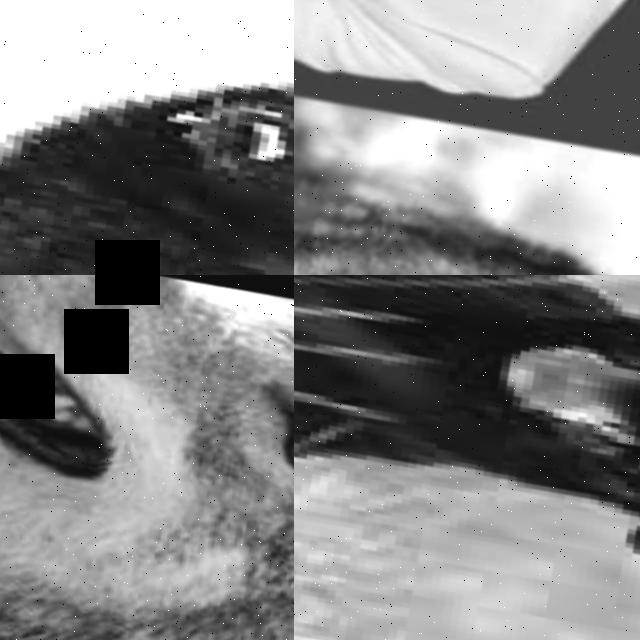dog: (294, 275, 640, 611), (294, 546, 640, 640)
wolf: (0, 275, 294, 640), (0, 0, 294, 275), (294, 99, 640, 275)
